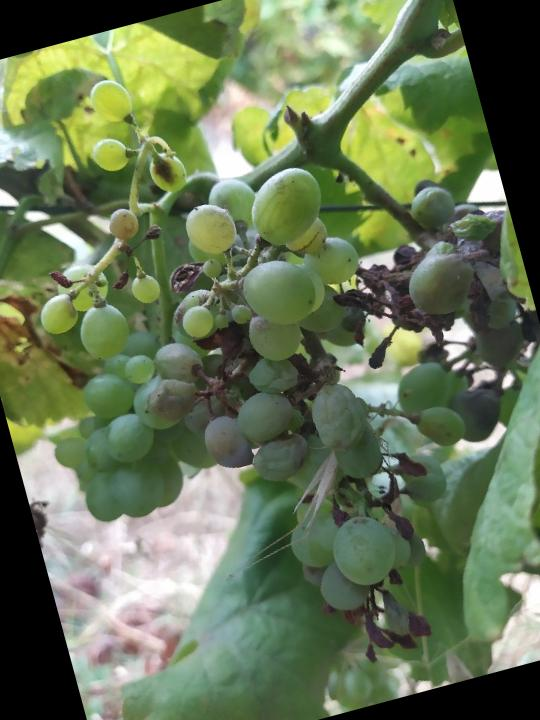grape: (16, 150, 467, 720)
